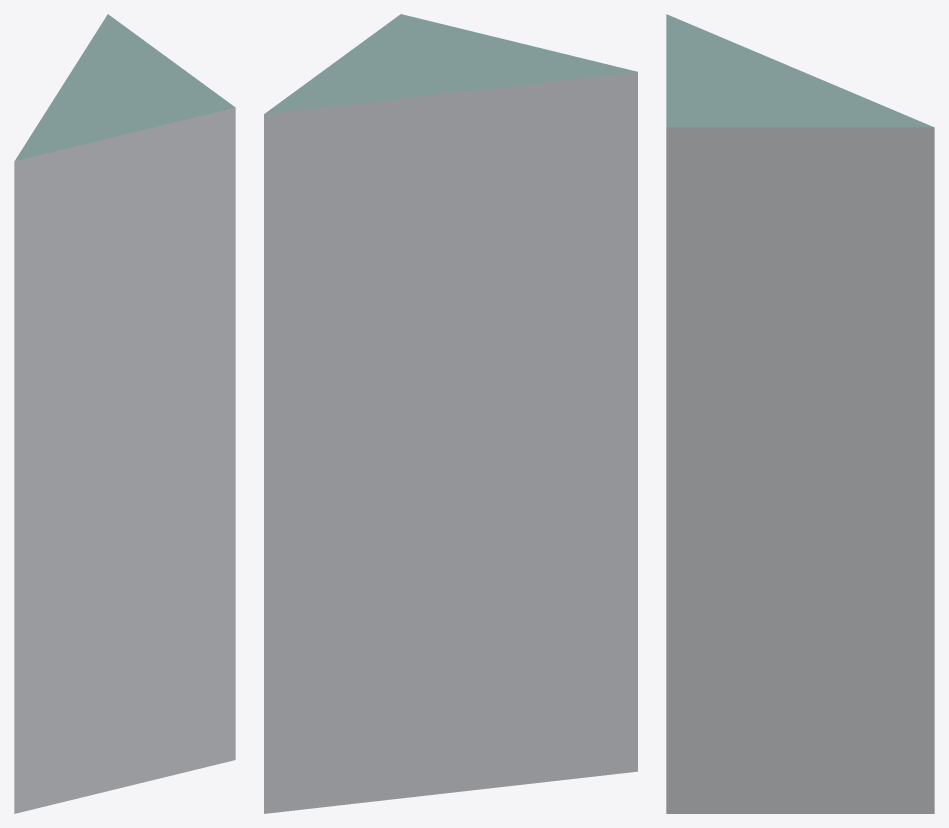
The model's file is naturePack_098.gltf.
3 renders of one model, left to right at view 1: azimuth 30°, elevation 25°; view 2: azimuth 150°, elevation 25°; view 3: azimuth 270°, elevation 25°, orthographic. The views are drawn at different scales.
Parts seen in each view (by area): view 1: Mesh1 Grey_Cliff_Corner_Green_Top Model; view 2: Mesh1 Grey_Cliff_Corner_Green_Top Model; view 3: Mesh1 Grey_Cliff_Corner_Green_Top Model.
Boxes of the visible parts, x1,y1,x2,y2 form: Mesh1 Grey_Cliff_Corner_Green_Top Model: (14, 14, 235, 813); Mesh1 Grey_Cliff_Corner_Green_Top Model: (264, 14, 637, 813); Mesh1 Grey_Cliff_Corner_Green_Top Model: (666, 14, 934, 813).
Bounding box in the file's own units: 0.78 × 2.2 × 0.78.
